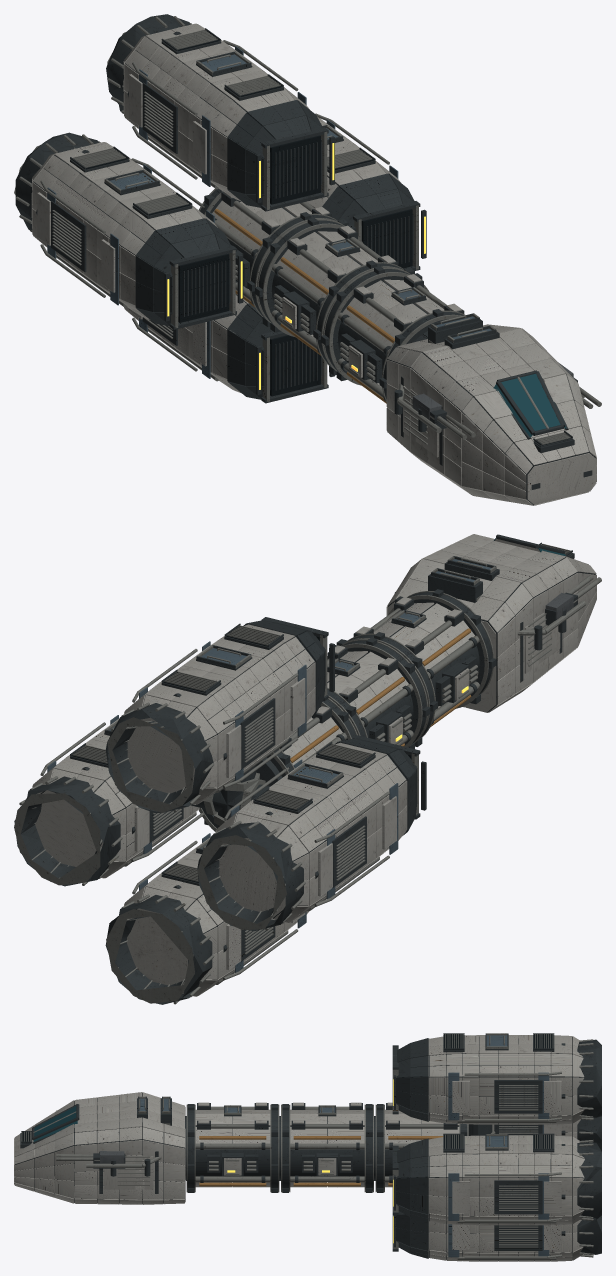
The model's file is model-reduced.glb.
3 views of the same model, one above another, from view 1: azimuth 30°, elevation 25°; view 2: azimuth 150°, elevation 25°; view 3: azimuth 270°, elevation 25° (orthographic). The views are drawn at different scales.
Parts seen in each view (by area): view 1: dark-structure, pale-steel-0, machined-alloy, pale-steel-2, pale-steel-1, recess-black, blue-grey-1, canopy-glass, service-ochre; view 2: pale-steel-0, dark-structure, machined-alloy, pale-steel-2, pale-steel-1, blue-grey-1, service-ochre, profiled-drive; view 3: dark-structure, pale-steel-0, machined-alloy, pale-steel-2, pale-steel-1, blue-grey-1, service-ochre, profiled-drive, recess-black, command-pressure-shell, canopy-glass.
Part boxes in pixels (box(x1,y1,x2,y2)): dark-structure: box(15, 14, 592, 489); pale-steel-0: box(31, 23, 596, 504); machined-alloy: box(14, 16, 601, 444); pale-steel-2: box(37, 74, 596, 505); pale-steel-1: box(223, 192, 596, 505); recess-black: box(86, 39, 571, 445); blue-grey-1: box(47, 46, 491, 378); canopy-glass: box(493, 373, 566, 437); service-ochre: box(214, 209, 394, 403); pale-steel-0: box(32, 538, 596, 996); dark-structure: box(14, 534, 577, 1004); machined-alloy: box(14, 543, 601, 1004); pale-steel-2: box(134, 534, 596, 969); pale-steel-1: box(288, 534, 596, 743); blue-grey-1: box(47, 559, 491, 972); service-ochre: box(290, 628, 471, 762); profiled-drive: box(41, 639, 402, 979); dark-structure: box(20, 1033, 601, 1258); pale-steel-0: box(14, 1035, 584, 1261); machined-alloy: box(21, 1033, 593, 1259); pale-steel-2: box(14, 1080, 561, 1249); pale-steel-1: box(14, 1092, 456, 1204); blue-grey-1: box(139, 1035, 549, 1257); service-ochre: box(199, 1136, 443, 1186); profiled-drive: box(429, 1037, 582, 1260); recess-black: box(22, 1034, 553, 1148); command-pressure-shell: box(15, 1093, 184, 1203); canopy-glass: box(33, 1106, 77, 1141).
Size of the model in its own units: 25.02 by 25 by 62.19.
12 materials, 10 textured.
